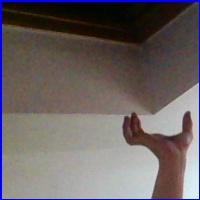space: (114, 108, 198, 156)
